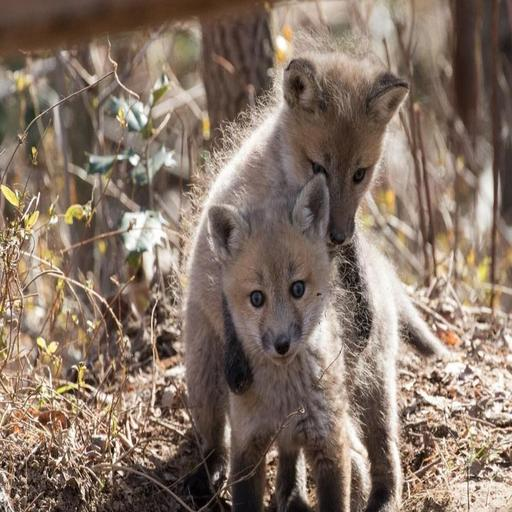Fox: (185, 52, 453, 512), (208, 171, 378, 506)
